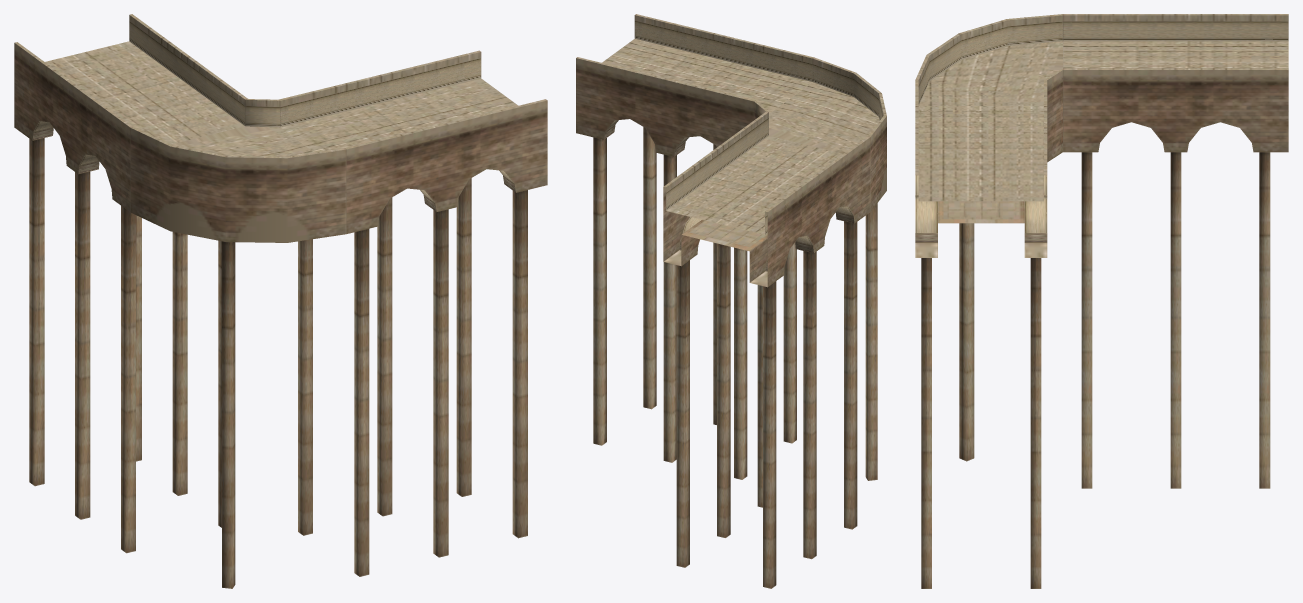
Rendered from thm_nboo_imprv_elevated_walkway_corner_s01_l2.fbx.
The picture shows the model from 3 angles, left to right: view 1: azimuth 30°, elevation 25°; view 2: azimuth 150°, elevation 25°; view 3: azimuth 270°, elevation 25°; orthographic projection. The views are drawn at different scales.
Parts seen in each view (by area): view 1: mesh_node; view 2: mesh_node; view 3: mesh_node.
Boxes of the visible parts, left/top/right/bottom form: mesh_node: left=14, top=14, right=547, bottom=588; mesh_node: left=576, top=14, right=886, bottom=588; mesh_node: left=915, top=14, right=1288, bottom=588.
Size of the model in its own units: 15.04 by 18.3 by 14.7.
